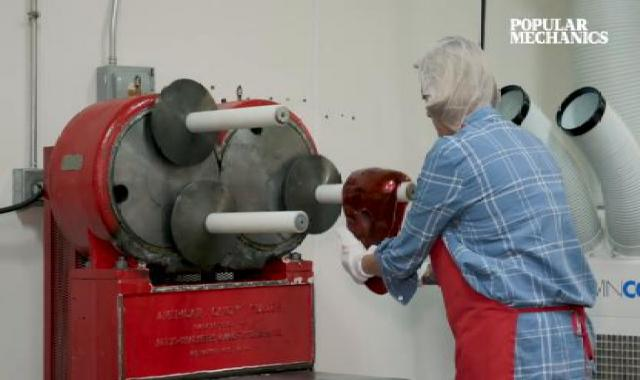hairnet: (401, 31, 507, 128)
